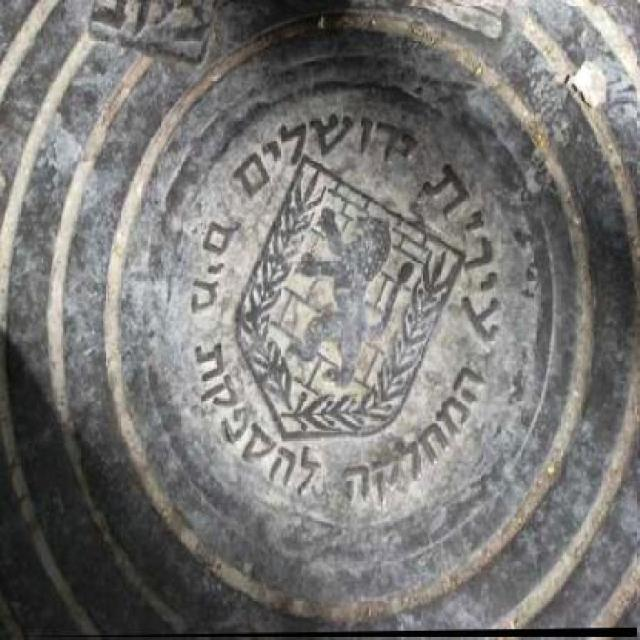Manhole: (2, 5, 638, 638)
